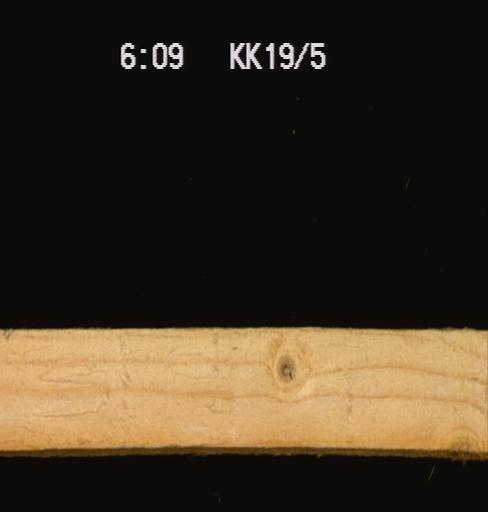sound_knot: (273, 351, 301, 385)
